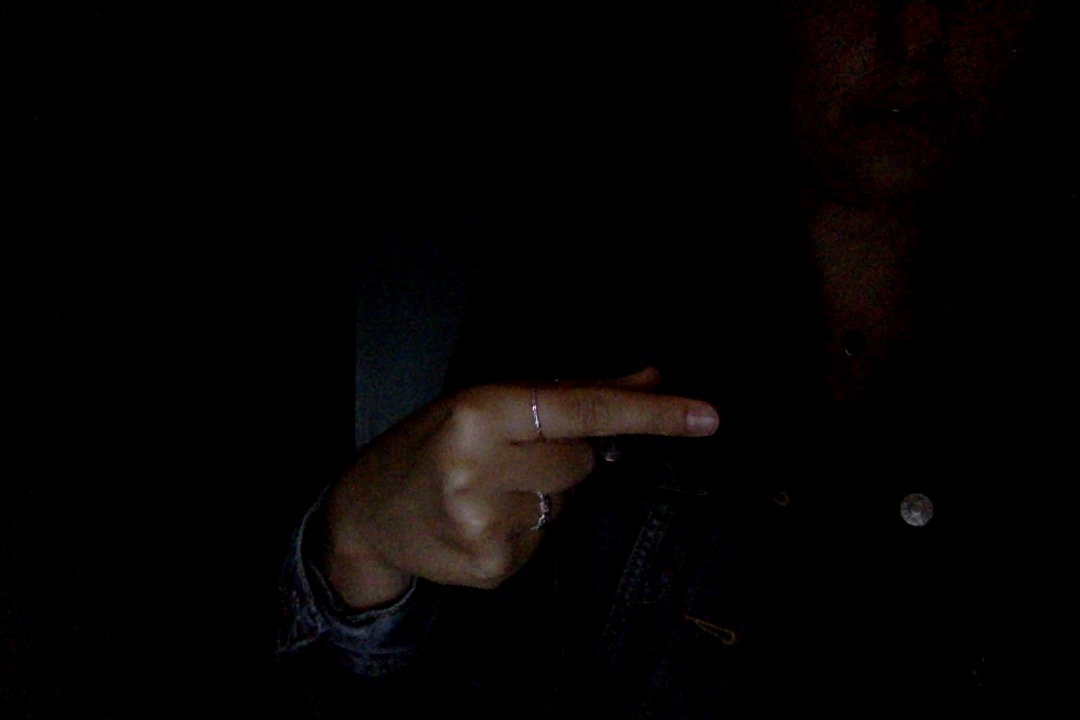g: (284, 328, 745, 655)
